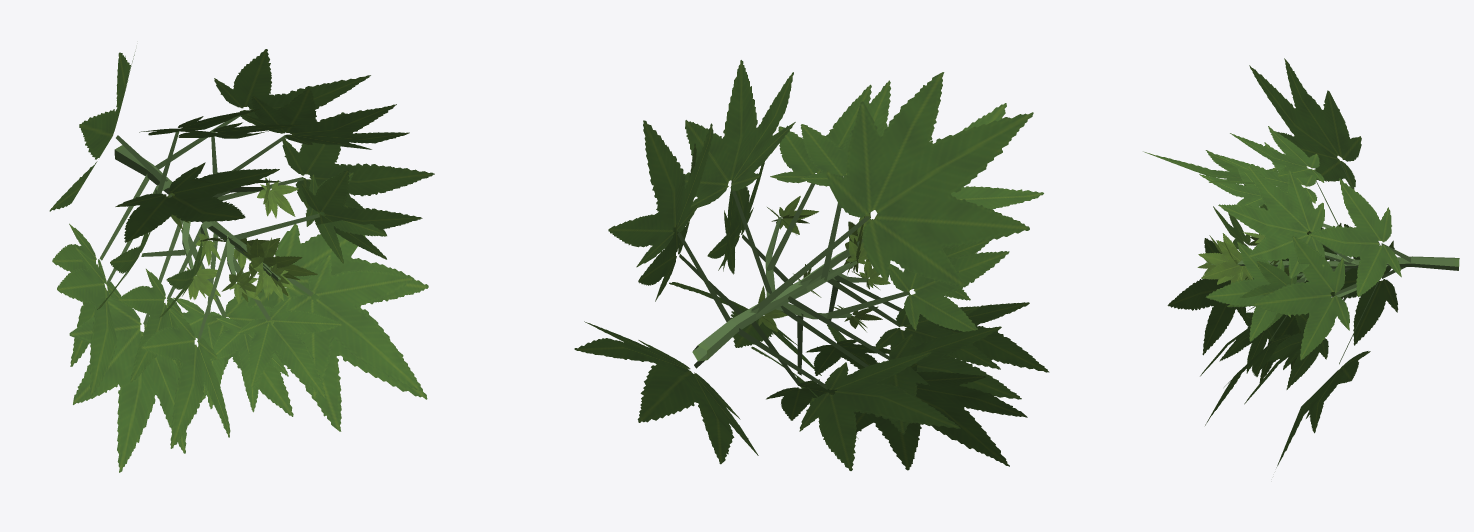
File: p_hybrid_vegetative_c0_cards.obj
The picture shows the model from 3 angles, left to right: view 1: azimuth 30°, elevation 25°; view 2: azimuth 150°, elevation 25°; view 3: azimuth 270°, elevation 25°; orthographic projection. The views are drawn at different scales.
Bounding box in the file's own units: 1.28 × 1.25 × 0.907.
1 material, 1 textured.
